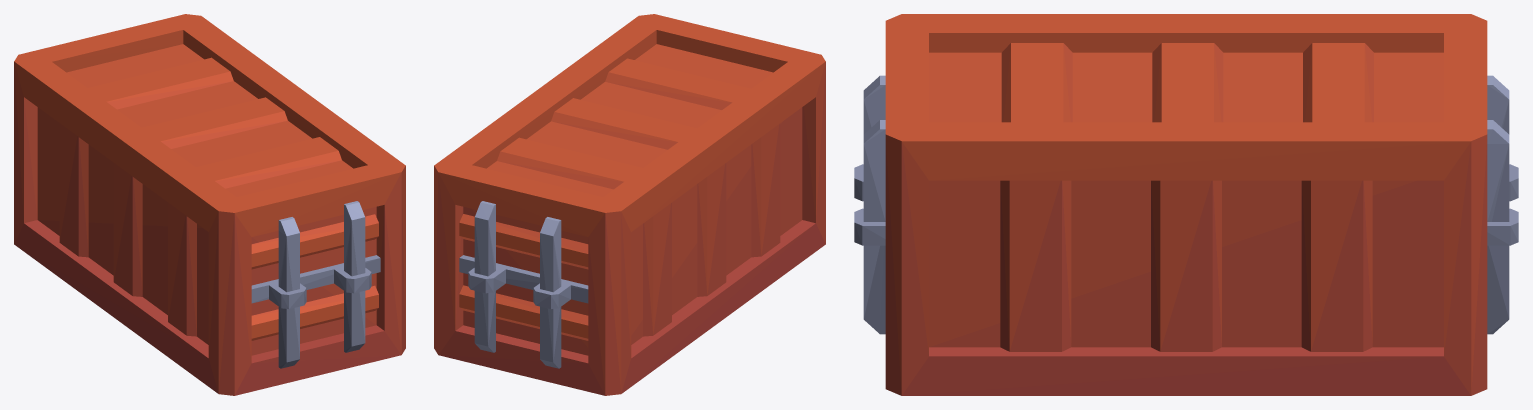
Rendered from container_a.glb.
3 renders of one model, left to right at view 1: azimuth 30°, elevation 25°; view 2: azimuth 150°, elevation 25°; view 3: azimuth 270°, elevation 25°, orthographic. The views are drawn at different scales.
Visible parts, largest first — view 1: container_a; view 2: container_a; view 3: container_a.
Boxes of the visible parts, bbox=[...] form: container_a: bbox=[14, 14, 405, 395]; container_a: bbox=[434, 14, 825, 395]; container_a: bbox=[854, 14, 1518, 395].
Size of the model in its own units: 0.3726 by 0.3481 by 0.8226.
